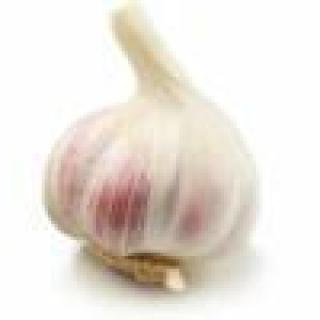Bawang Putih: (46, 17, 270, 289)
